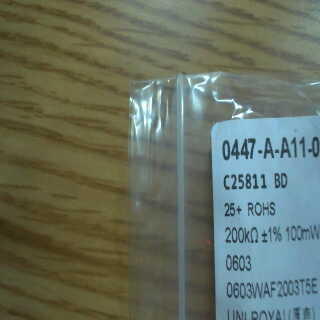200kR: (216, 225, 260, 252)
